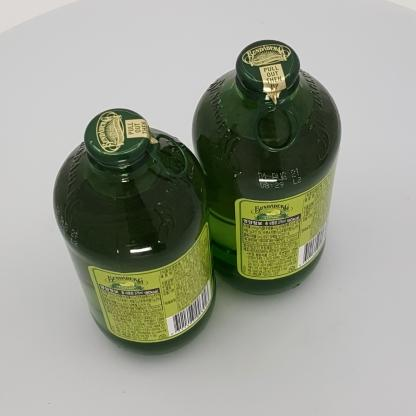------------375ML: (53, 108, 216, 355), (192, 40, 342, 296)
